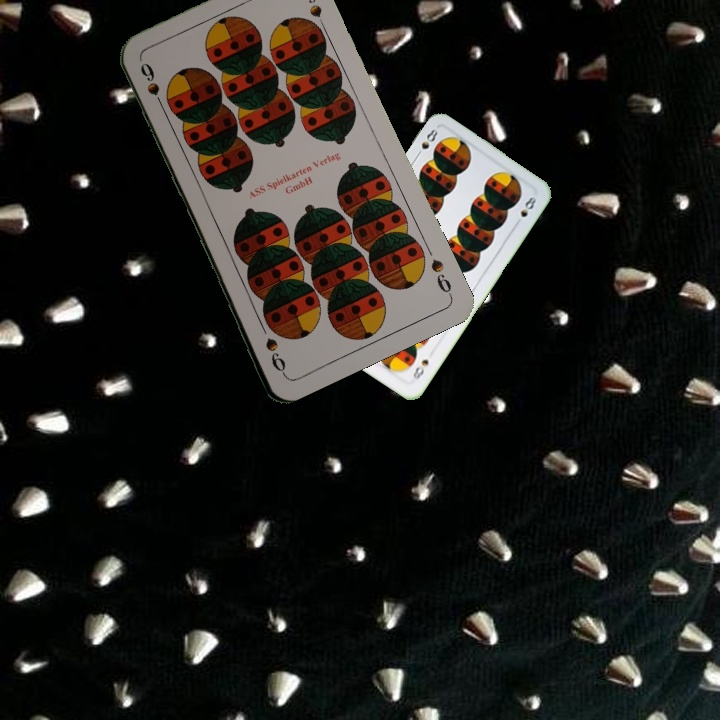S8: (411, 125, 441, 162), (409, 355, 431, 383)
S9: (136, 58, 168, 114), (426, 255, 455, 299)
